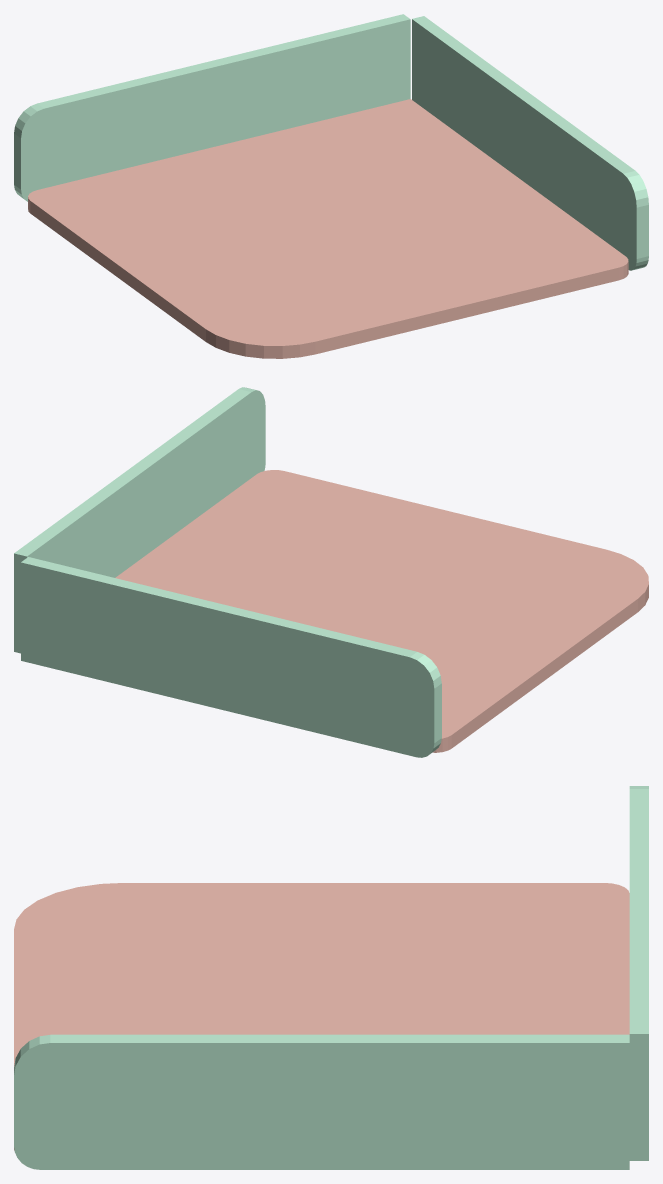
File: store22.glb
3 renders of one model, top to bottom at view 1: azimuth 30°, elevation 25°; view 2: azimuth 150°, elevation 25°; view 3: azimuth 270°, elevation 25°, orthographic. The views are drawn at different scales.
Size of the model in its own units: 3.09 by 0.6794 by 3.08.
